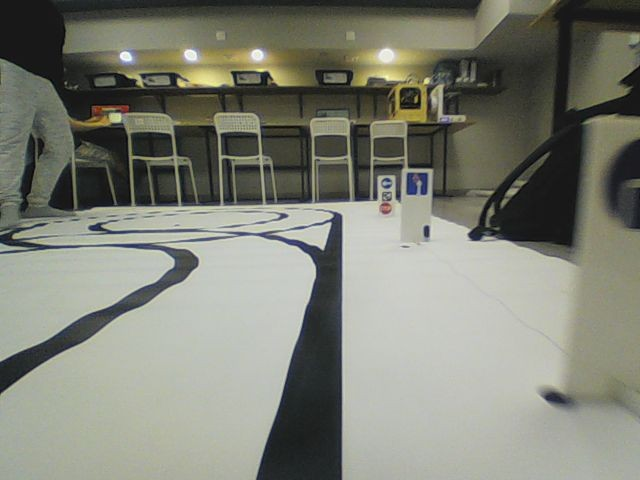priority_movement: (405, 172, 428, 196)
